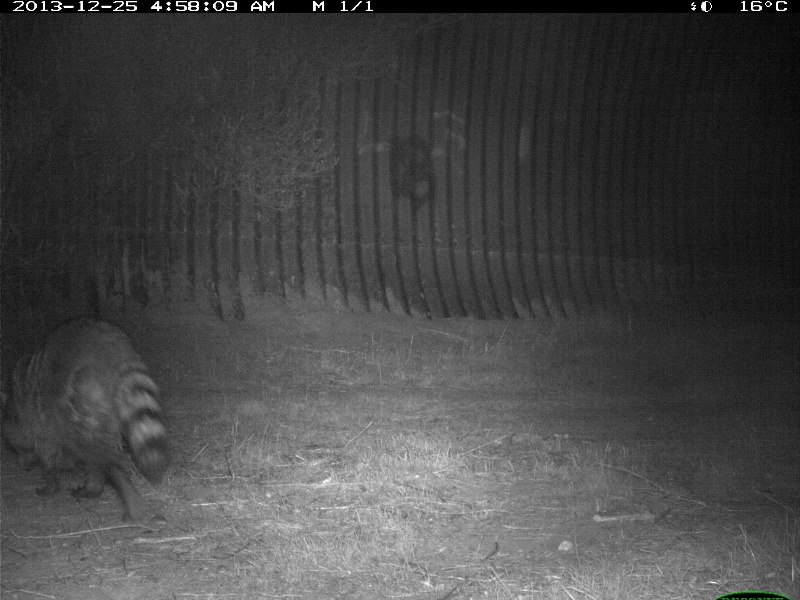raccoon: (2, 313, 168, 522)
